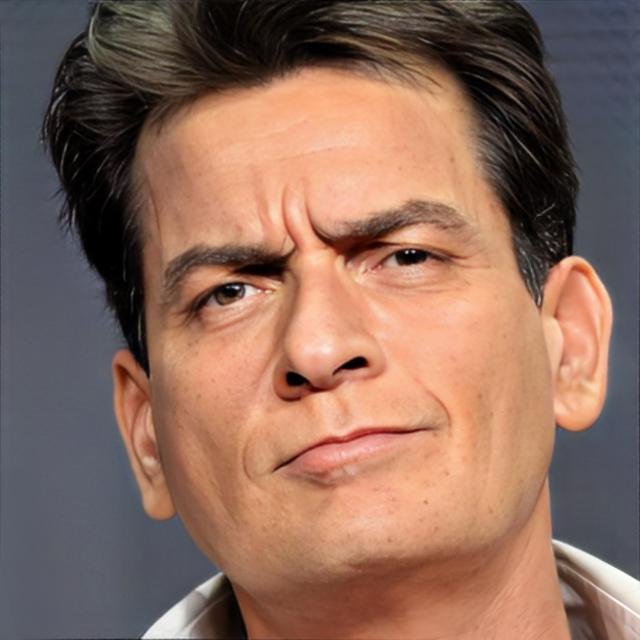anger: (146, 65, 542, 578)
